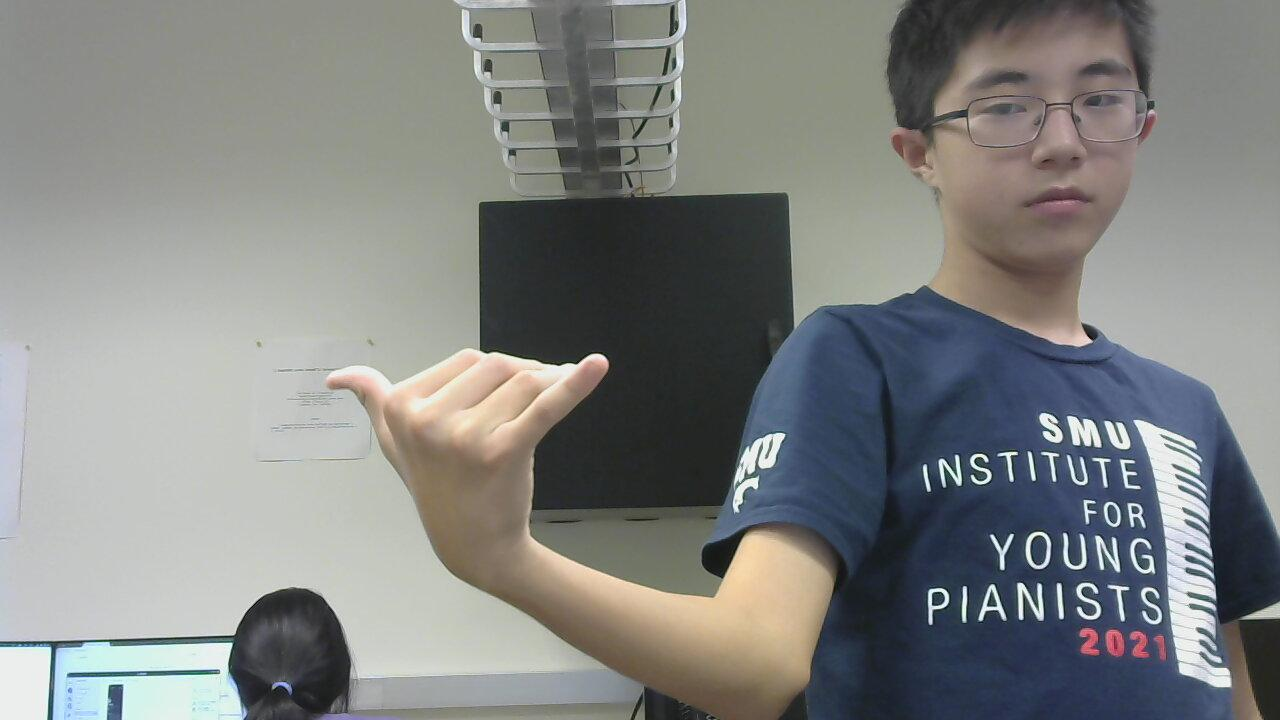hands: (313, 327, 610, 534)
